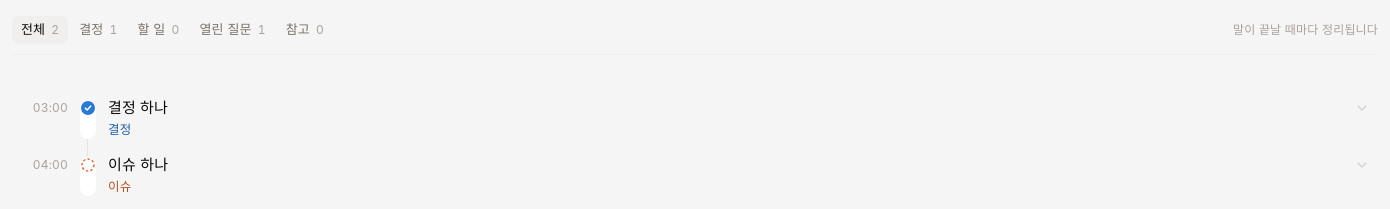
Test: NoteTimeline › 골라 보기는 그 유형만 남기고 칩에 전체에서 센 개수를 단다
The image size is (1390, 209).
Click the button "열린 질문 1" at (233, 30), box [190,16,275,44]
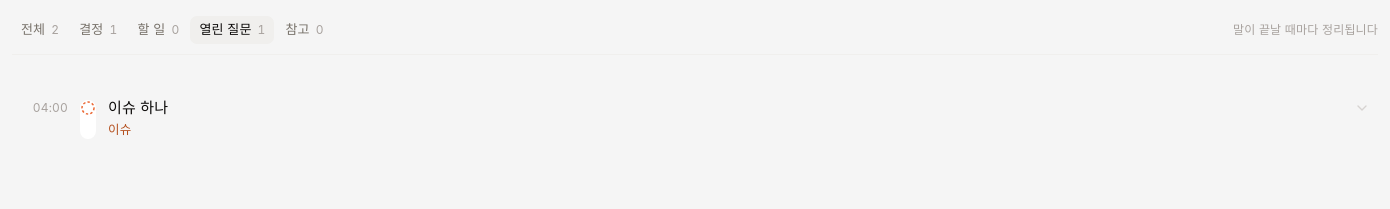
Expected: the text "이슈 하나" is shown, [108,98,168,117]
Expected: the button "결정 하나" is gone
